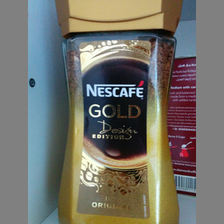coffee: (53, 1, 183, 224)
